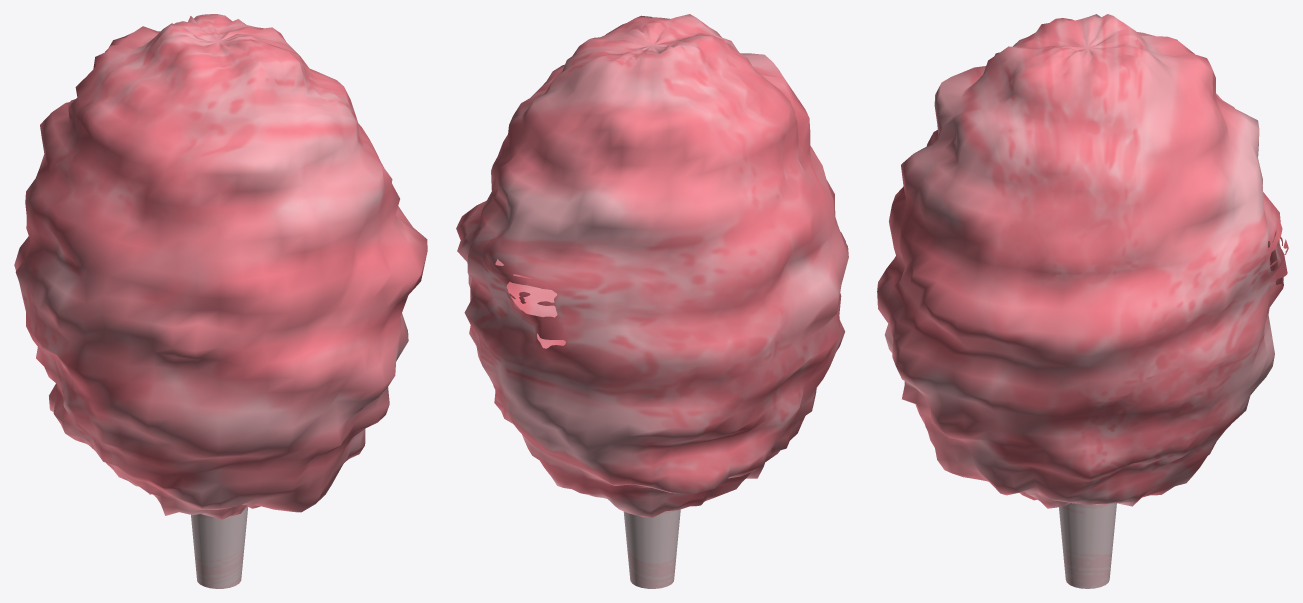
The model's file is Arbolel1R.fbx.
3 renders of one model, left to right at view 1: azimuth 30°, elevation 25°; view 2: azimuth 150°, elevation 25°; view 3: azimuth 270°, elevation 25°, orthographic.
Visible parts, largest first — view 1: boom_3; view 2: boom_3; view 3: boom_3.
Part boxes in pixels (left/top/right/bottom): boom_3: left=14, top=14, right=427, bottom=588; boom_3: left=456, top=14, right=848, bottom=588; boom_3: left=877, top=14, right=1288, bottom=588.
Bounding box in the file's own units: 59.96 × 90.53 × 61.66.
1 material, 1 textured.
